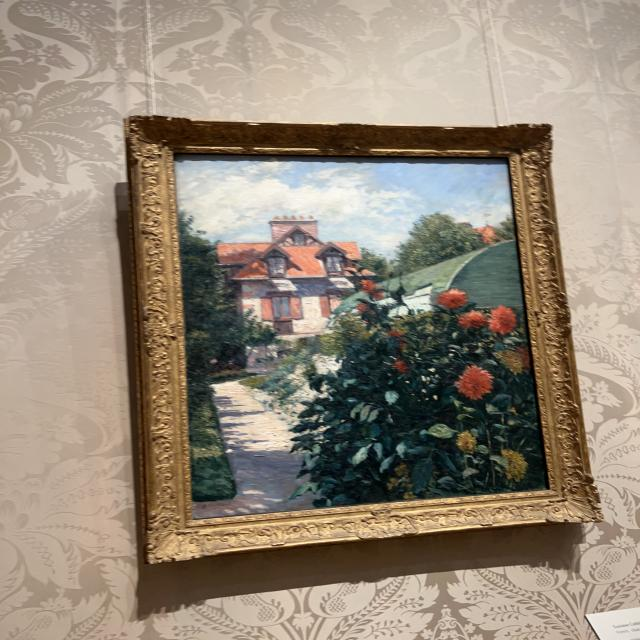summer: (178, 158, 546, 514)
